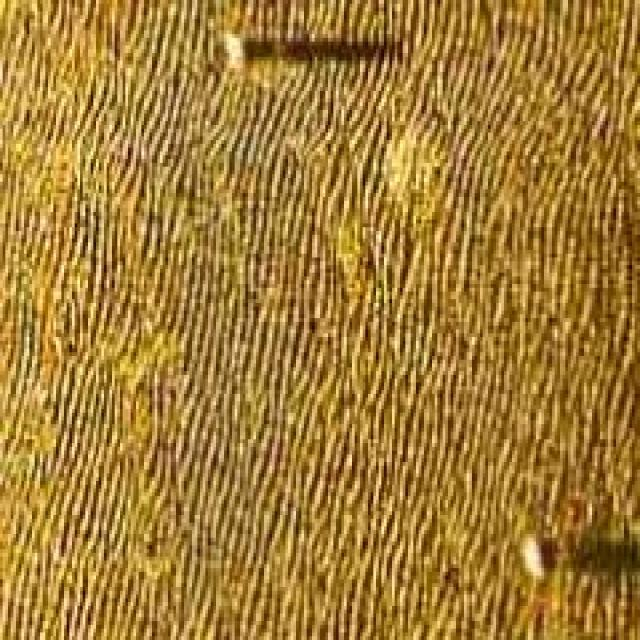other: (504, 508, 563, 594), (198, 11, 245, 76)
